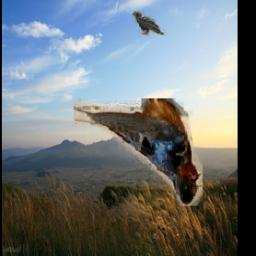Crow: (132, 11, 166, 36)
Swallow: (74, 98, 203, 206)
